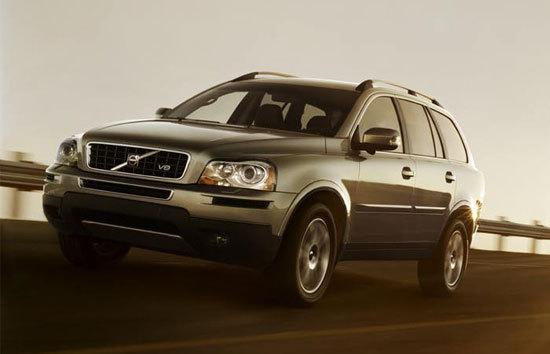volvo: (121, 149, 147, 180)
